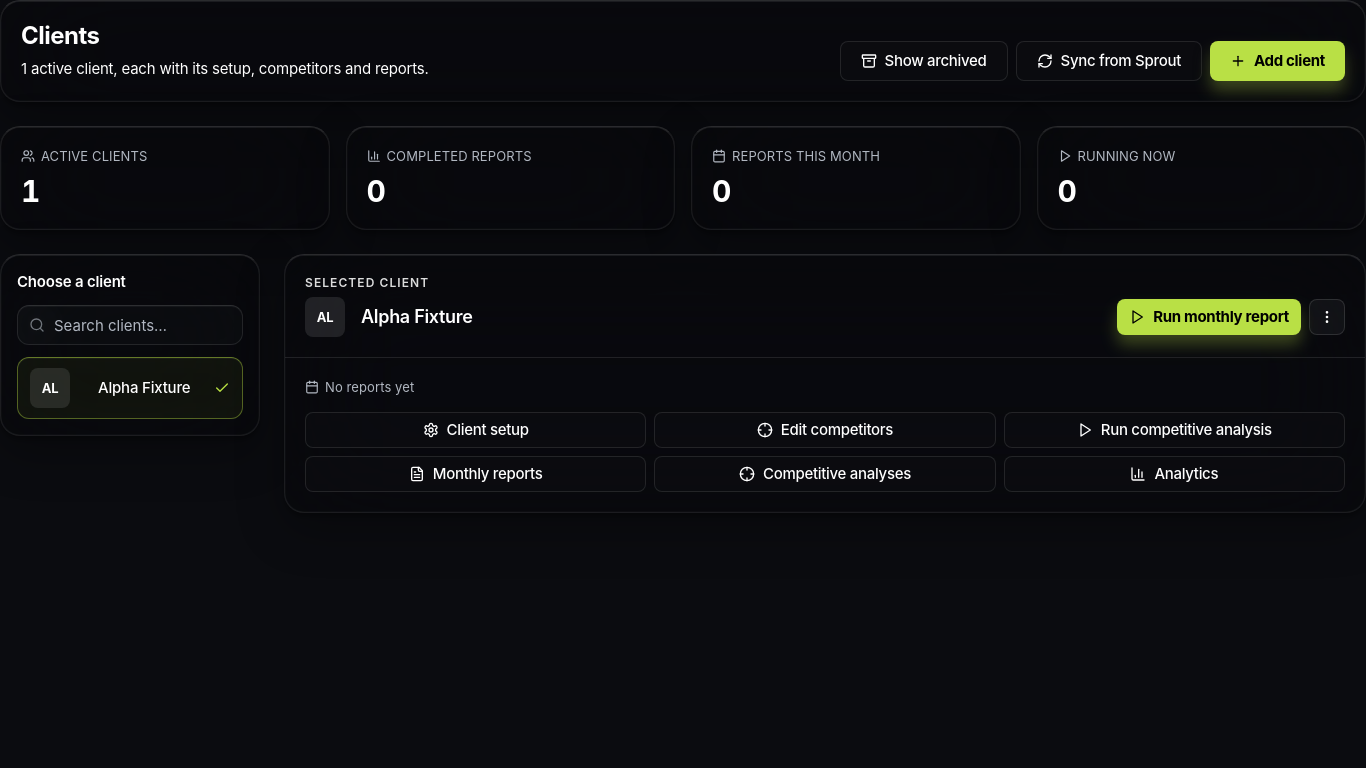
Scenario: when the run is over › says how many clients were added, each a link to its setup page, and reads the client list again
Step 1. Click the button "Sync from Sprout" → (1109,61), box [1016,41,1202,81]
Wait 40020 ms
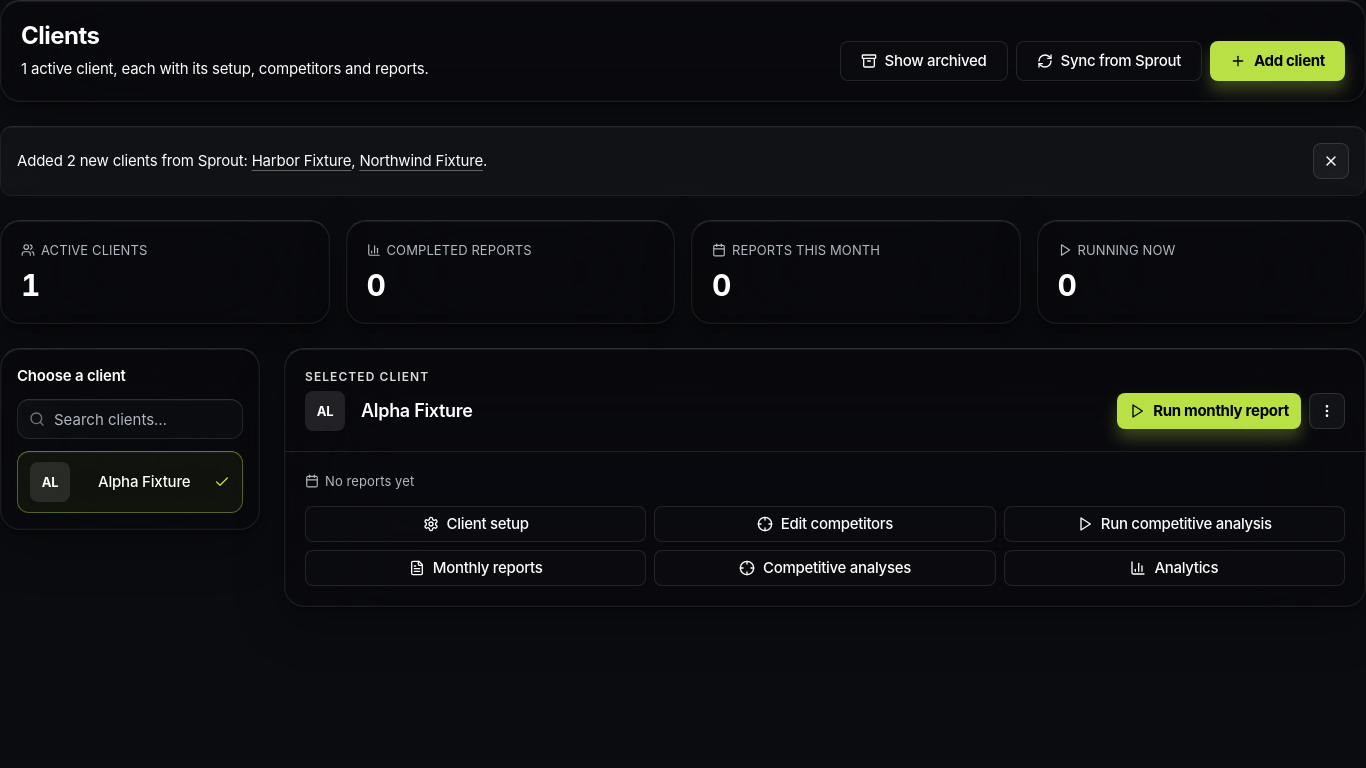
expect the message reads "Added 2 new clients from Sprout: Harbor Fixture , Northwind Fixture .": met, box [0,126,1365,196]
